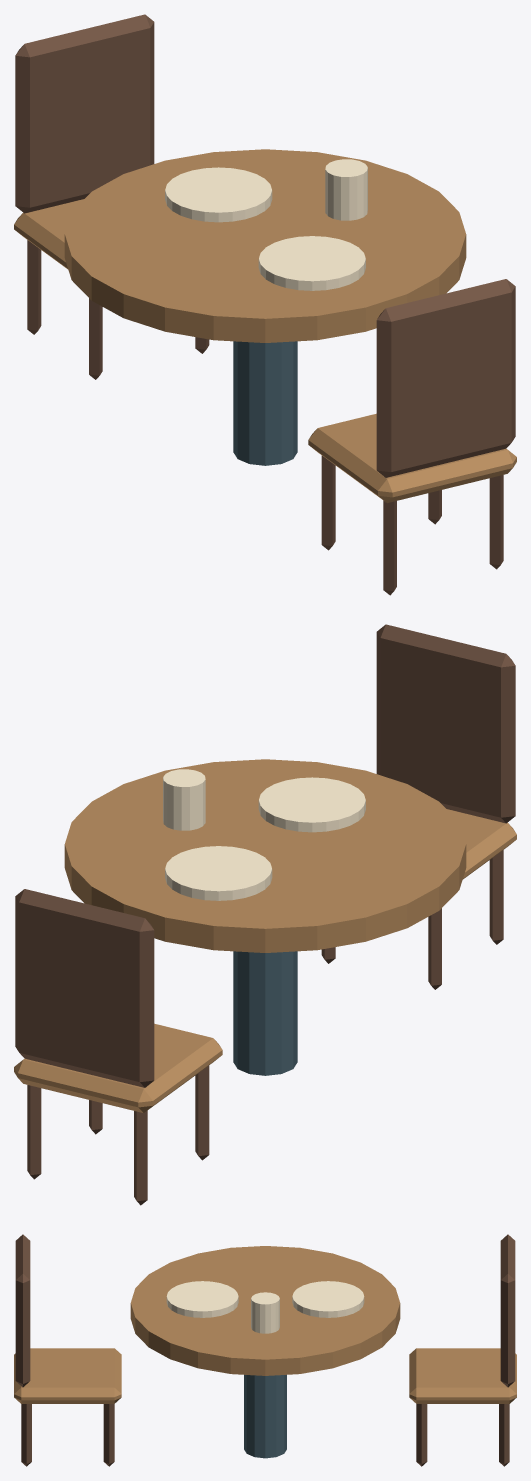
File: dining-set.glb
The picture shows the model from 3 angles, top to bottom: view 1: azimuth 30°, elevation 25°; view 2: azimuth 150°, elevation 25°; view 3: azimuth 270°, elevation 25°; orthographic projection. The views are drawn at different scales.
Visible parts, largest first — view 1: tabletop, chair-back, chair-back.001, table-post, chair-seat, plate.001, plate, cup, chair-seat.001, chair-leg.002, chair-leg.001, chair-leg.005 (+2 smaller); view 2: tabletop, chair-back.001, chair-back, table-post, chair-seat.001, plate, plate.001, cup, chair-seat, chair-leg.007, chair-leg.004, chair-leg (+2 smaller); view 3: tabletop, chair-seat, chair-seat.001, table-post, chair-back, chair-back.001, plate, plate.001, cup, chair-leg.003, chair-leg.006, chair-leg.002 (+1 smaller).
Part boxes in pixels (box(x1,y1,x2,y2)): tabletop: box(64, 149, 466, 342); chair-back: box(376, 279, 515, 477); chair-back.001: box(15, 14, 154, 213); table-post: box(233, 341, 297, 465); chair-seat: box(308, 413, 516, 503); plate.001: box(165, 167, 272, 222); plate: box(258, 236, 365, 290); cup: box(325, 159, 367, 220); chair-seat.001: box(14, 199, 83, 269); chair-leg.002: box(489, 475, 503, 569); chair-leg.001: box(321, 455, 335, 550); chair-leg.005: box(27, 240, 41, 334); tabletop: box(64, 759, 466, 952); chair-back.001: box(15, 889, 154, 1087); chair-back: box(376, 624, 515, 823); table-post: box(233, 951, 297, 1075); chair-seat.001: box(14, 1023, 222, 1113); plate: box(258, 777, 365, 832); plate.001: box(165, 846, 272, 900); cup: box(163, 769, 205, 830); chair-seat: box(447, 809, 516, 879); chair-leg.007: box(27, 1085, 41, 1179); chair-leg.004: box(195, 1065, 209, 1160); chair-leg: box(489, 850, 503, 944); tabletop: box(130, 1246, 400, 1375); chair-seat: box(14, 1348, 121, 1403); chair-seat.001: box(409, 1348, 516, 1403); table-post: box(244, 1375, 286, 1458); chair-back: box(15, 1234, 30, 1387); chair-back.001: box(500, 1234, 515, 1387); plate: box(166, 1281, 238, 1317); plate.001: box(292, 1281, 364, 1317); cup: box(251, 1292, 279, 1333); chair-leg.003: box(103, 1404, 114, 1466); chair-leg.006: box(416, 1404, 427, 1466); chair-leg.002: box(21, 1404, 31, 1466).
Size of the model in its own units: 1.5 by 1.2 by 2.8.
